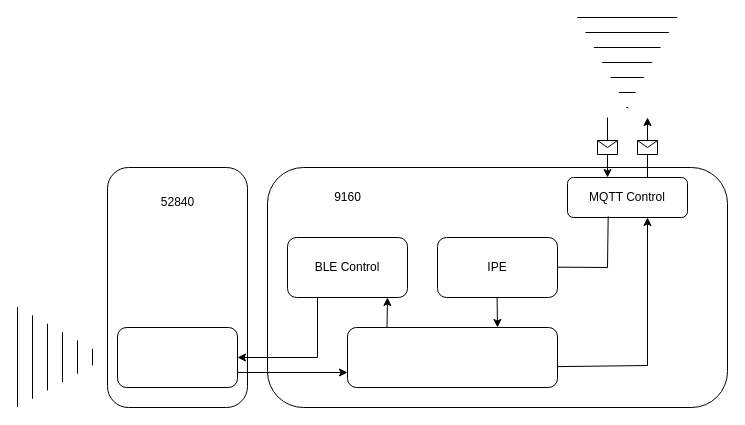
Some shapes in this 745 by 425 pixel diagram are drawn without their labels. The centre of each missing label's shape, as x and y in pixels:
Aggregator: (452,357)
BLE Transmit: (177,357)
